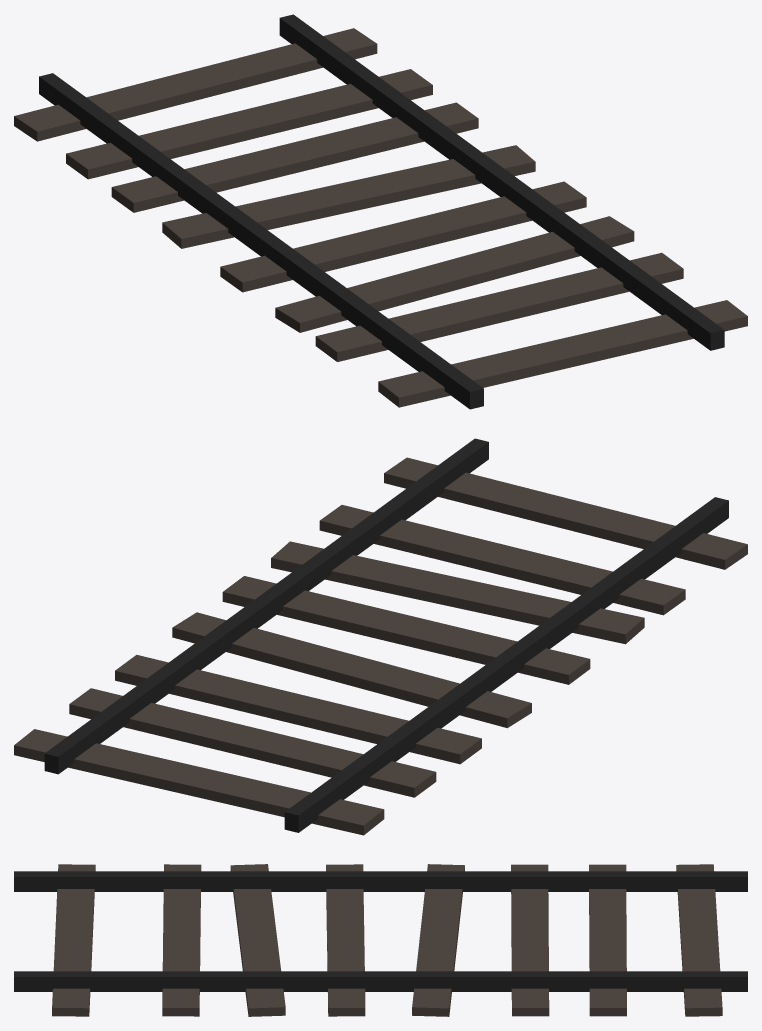
Rendered from Track_Straight_Half.fbx.
3 renders of one model, top to bottom at view 1: azimuth 30°, elevation 25°; view 2: azimuth 150°, elevation 25°; view 3: azimuth 270°, elevation 25°, orthographic. The views are drawn at different scales.
Parts seen in each view (by area): view 1: Track_Straight_Half; view 2: Track_Straight_Half; view 3: Track_Straight_Half.
Boxes of the visible parts, bbox=[...] form: Track_Straight_Half: bbox=[14, 14, 747, 409]; Track_Straight_Half: bbox=[14, 438, 747, 835]; Track_Straight_Half: bbox=[14, 864, 747, 1016].
Size of the model in its own units: 1.44 by 0.0939 by 3.09.
